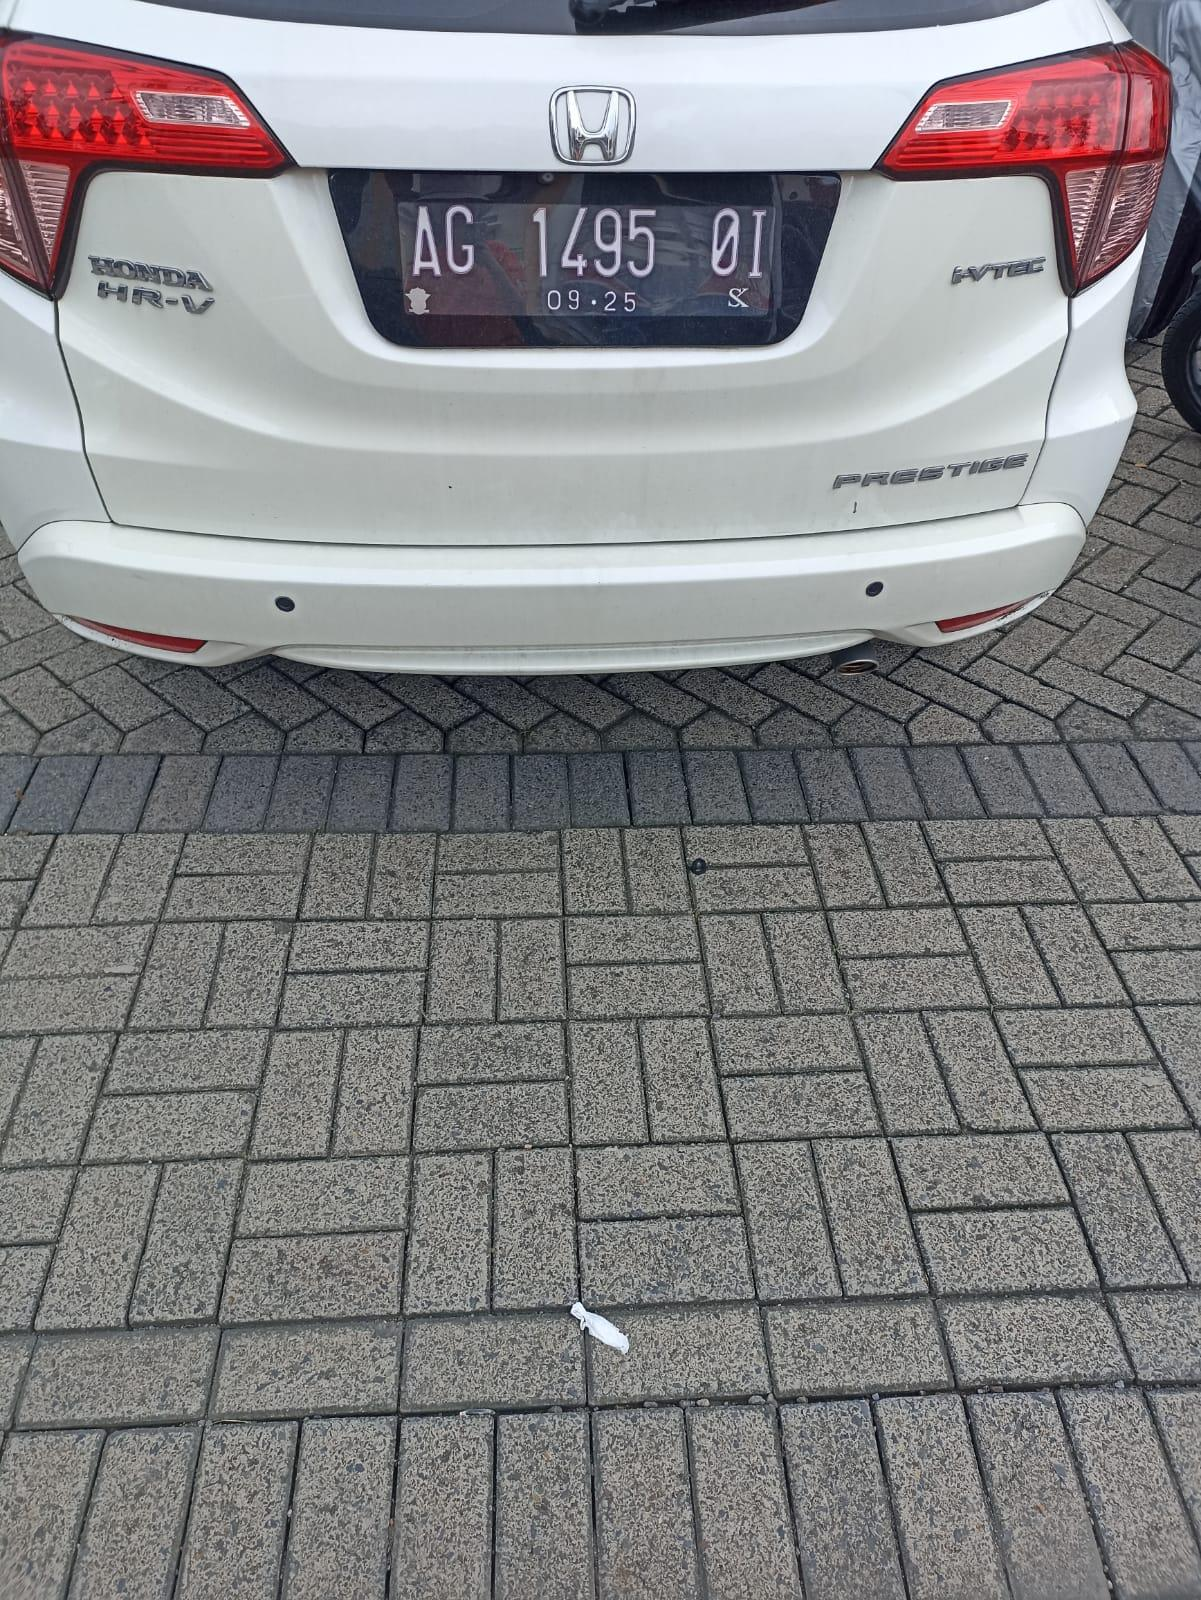plat: (399, 194, 777, 337)
